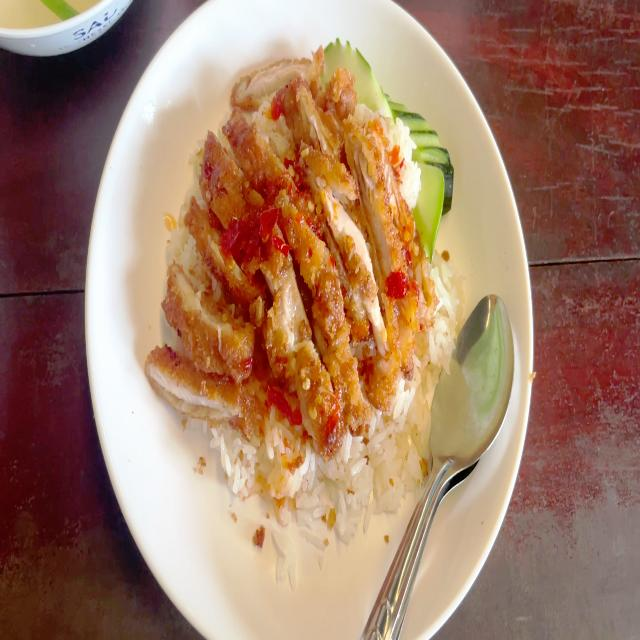chicken_rice: (148, 42, 480, 570)
cucumber: (380, 81, 458, 257), (320, 32, 399, 145)
fried_chicken: (149, 59, 431, 462)
